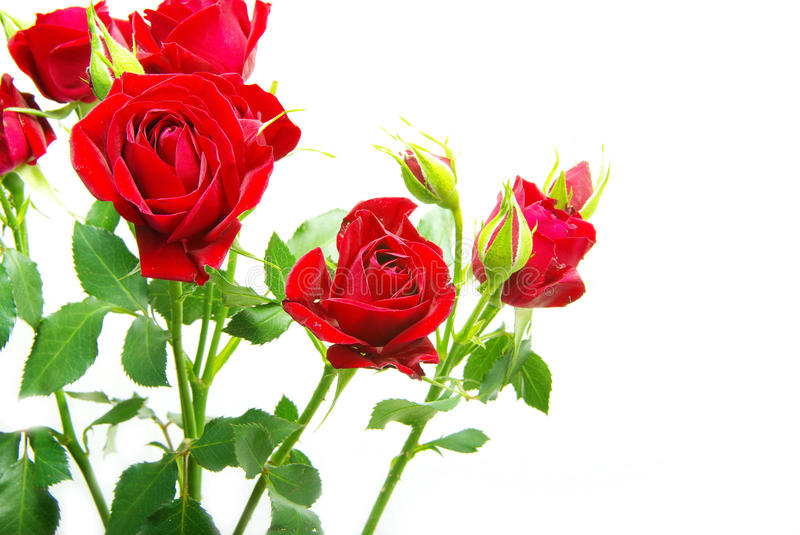RedRose: (440, 99, 592, 321), (100, 83, 301, 249), (132, 0, 264, 105), (348, 214, 431, 367), (17, 18, 121, 101), (0, 71, 69, 173)
